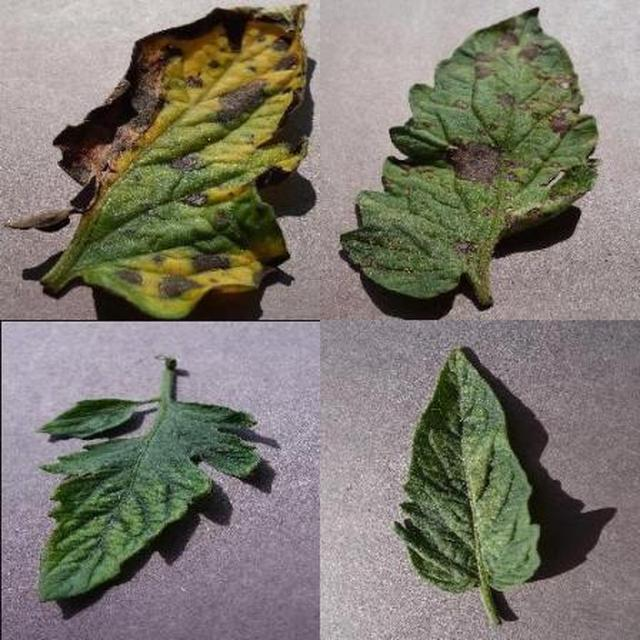Early Blight Leaf: (212, 217, 640, 640)
